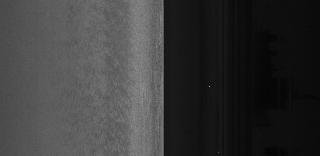silk spot: (113, 36, 141, 120)
